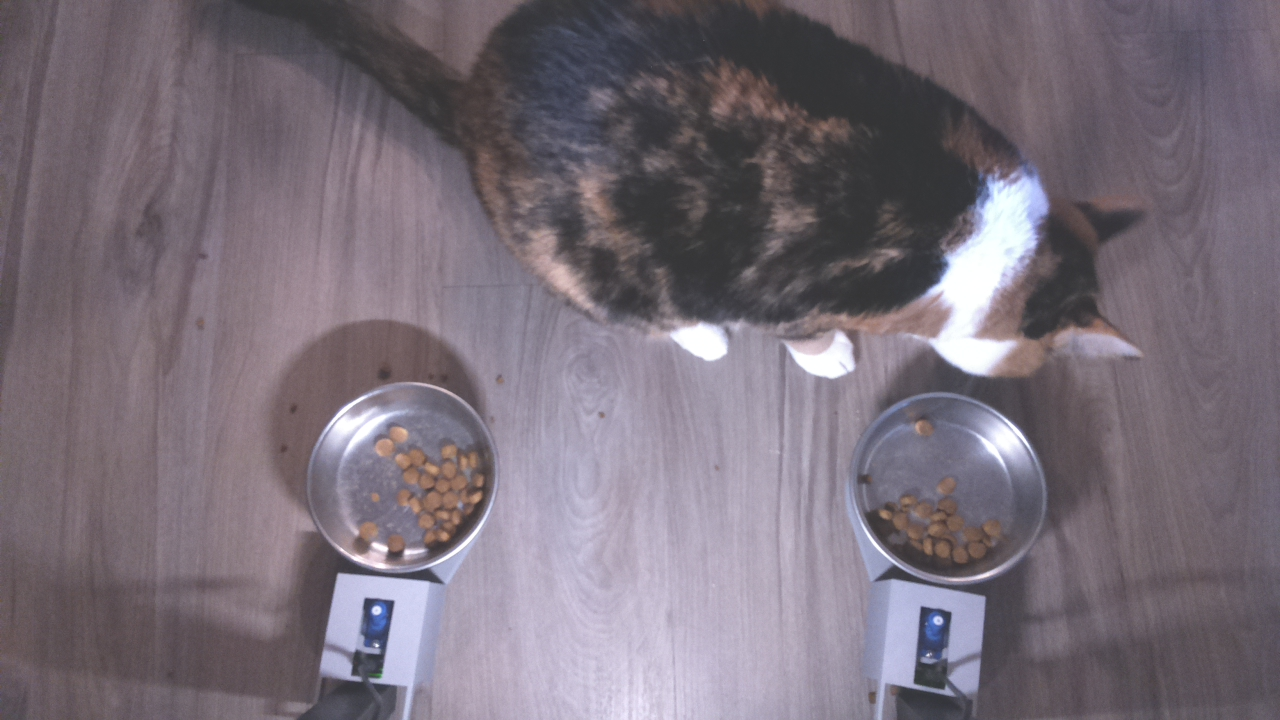bella: (897, 126, 1161, 387)
open_bowl: (301, 377, 506, 576), (844, 391, 1051, 584)
